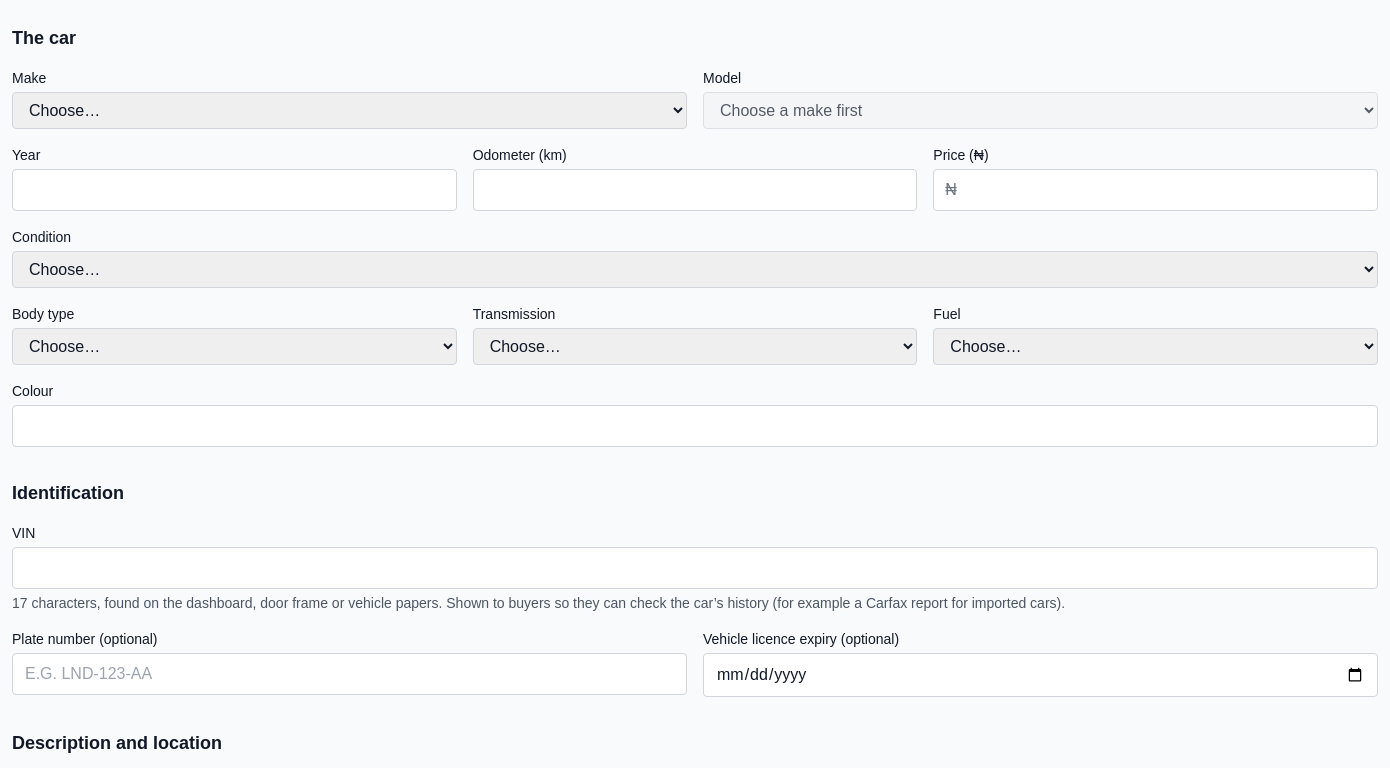
Scenario: ListingForm make/model › loads models for the chosen make and enables the model select
Expected: the dropdown labelled "Model" is disabled, [703,92,1378,129]
Select "Toyota" in the dropdown labelled "Make" at (350, 110), box [12,92,687,129]
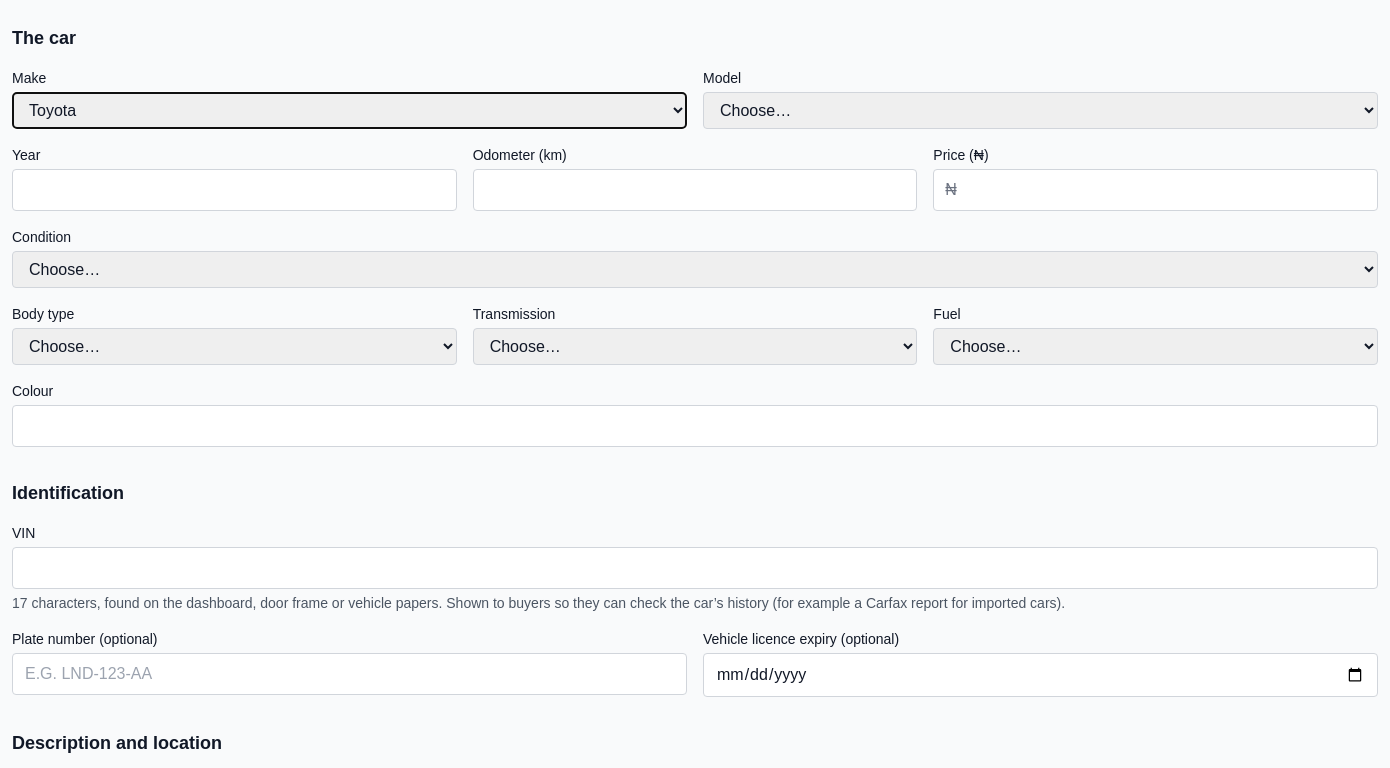
Expected: the dropdown labelled "Model" is enabled, [703,92,1378,129]
